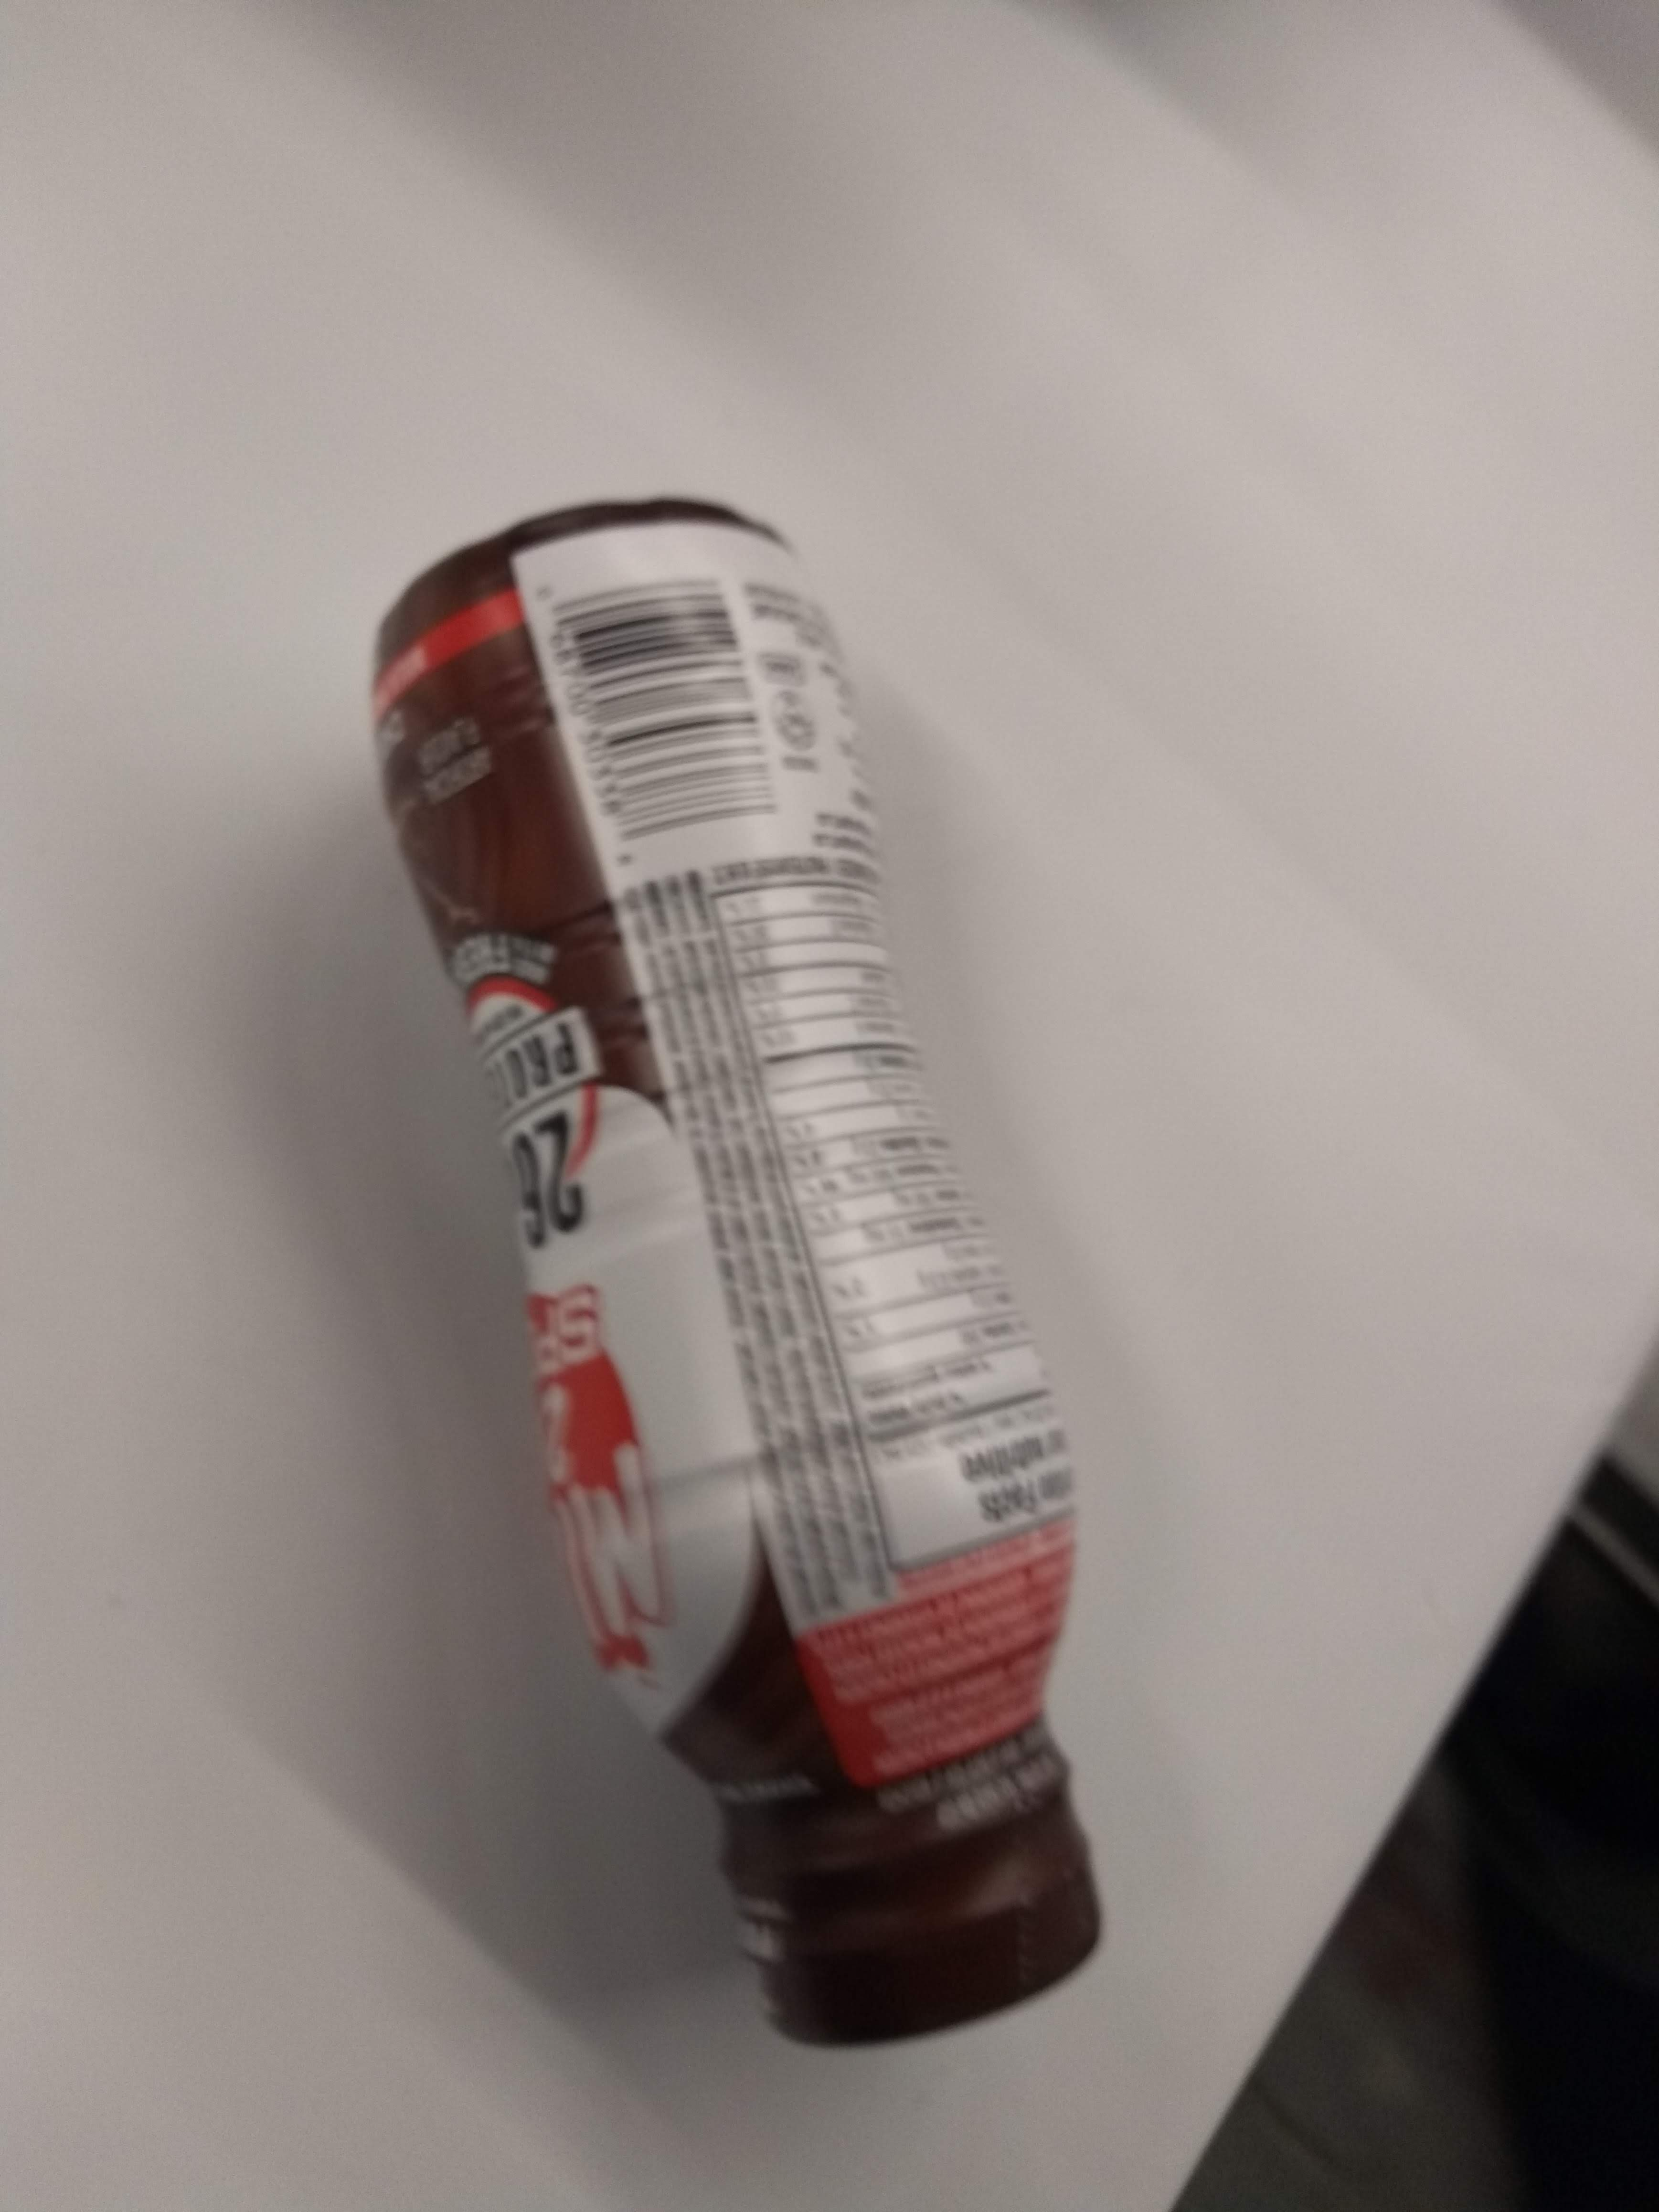chocolate_drink: (357, 467, 1141, 2066)
